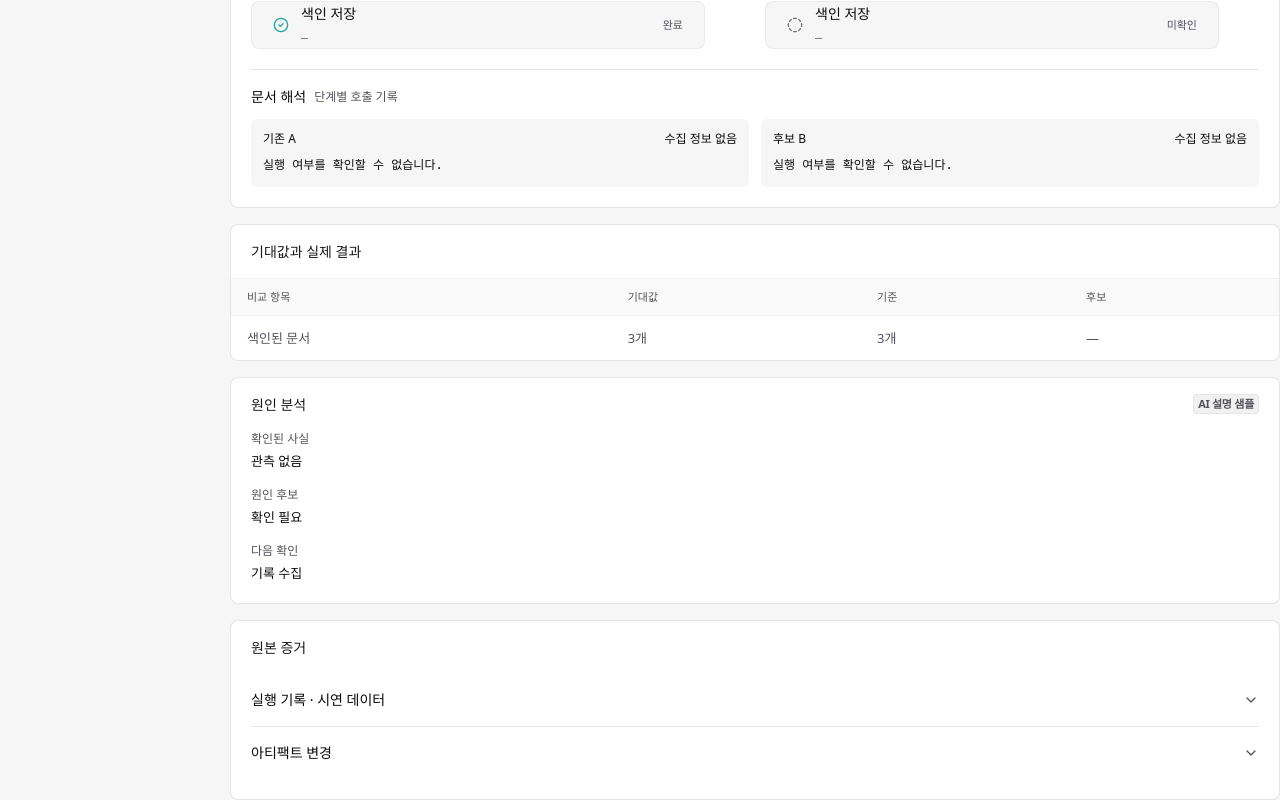
renders another domain from normalized metadata, including unknown observations
The width and height of the screenshot is (1280, 800).
(page scrolled)
Check: the 1st text "색인 저장" is shown, box top-left (301, 2), bottom-right (356, 24)
Check: the text "미확인" is shown, box top-left (1167, 15), bottom-right (1197, 35)
Click the button "실행 기록 · 시연 데이터" at (318, 699), box top-left (251, 674), bottom-right (1259, 726)
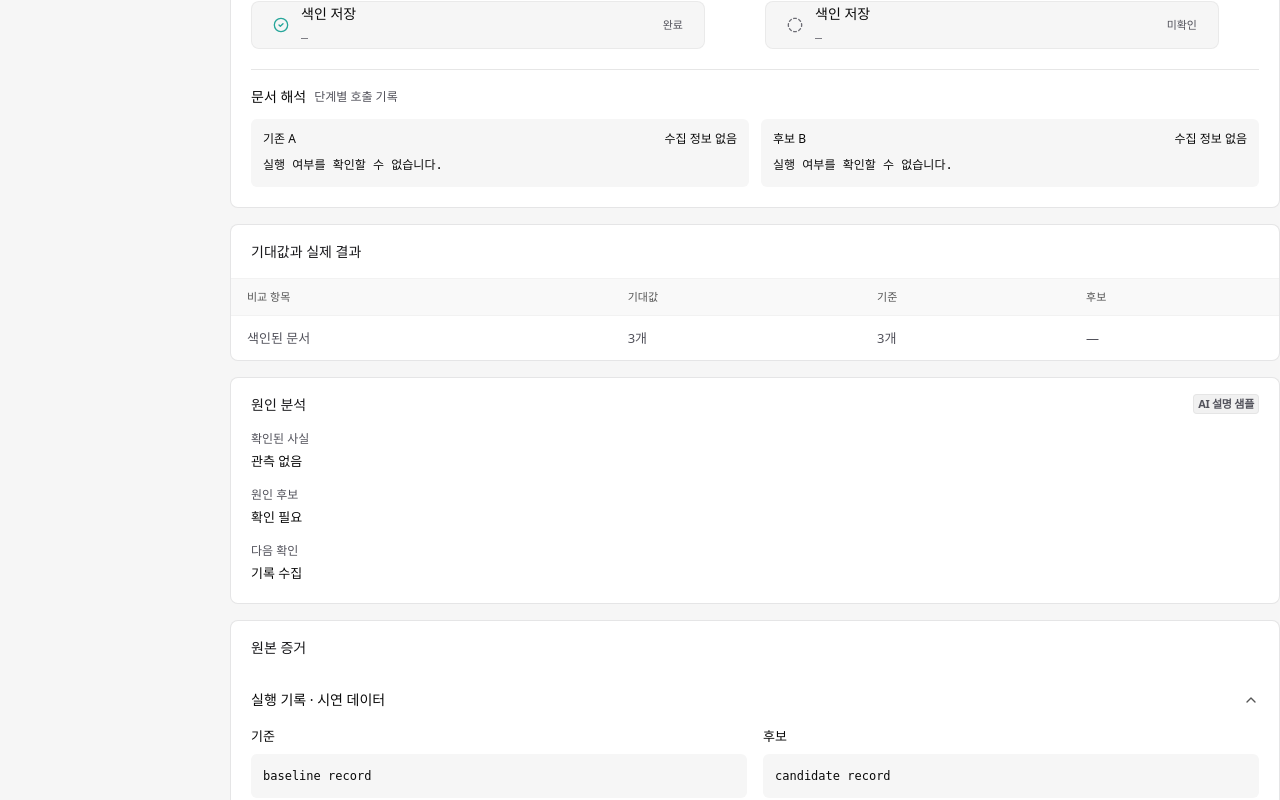
Check: the text "candidate record" is shown, box top-left (763, 754), bottom-right (1259, 798)
